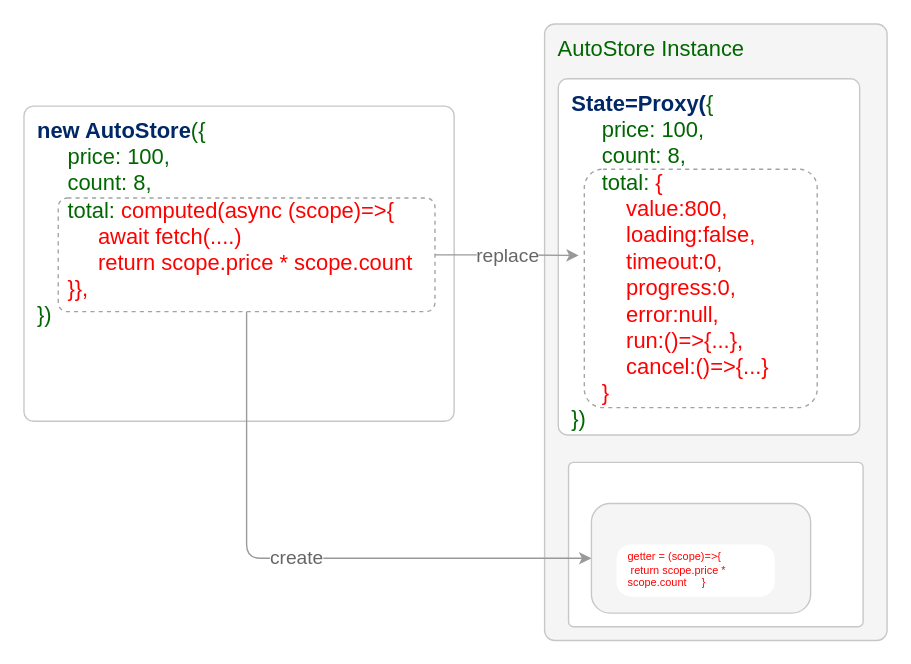
The diagram is 911 pixels wide and 664 high, and some of its shapes have lost their labels. The shapes that lost their labels are listed below. From the top down, each one's box as (x1, y1, x2, y2) in pixels, then its label:
(590, 502, 811, 613): computedObject - total
(567, 461, 863, 627): ComputedObjects
